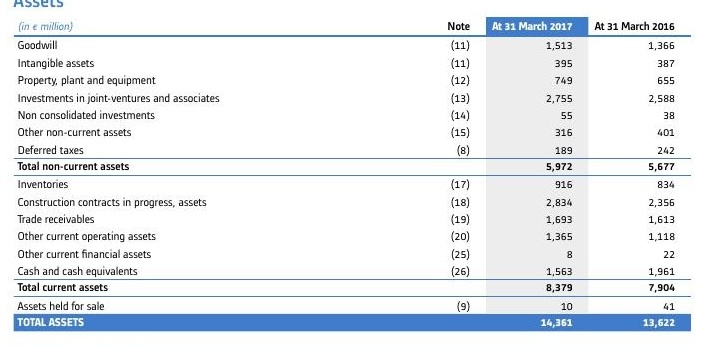table: (0, 0, 702, 348)
